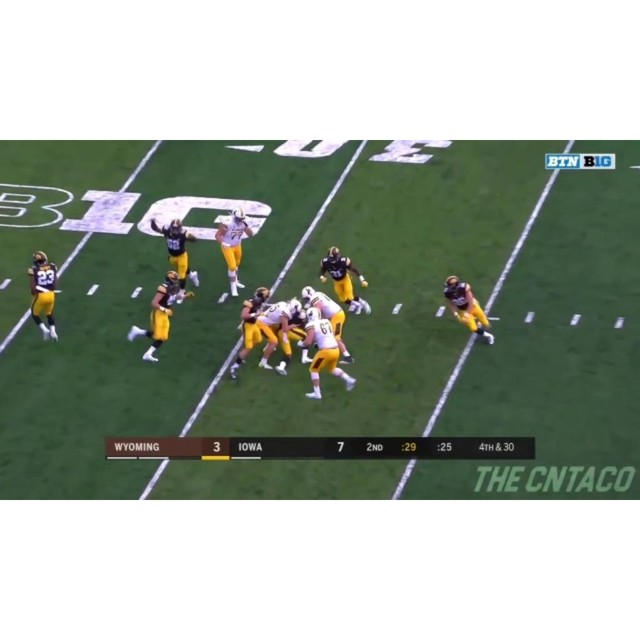american-football-player: (229, 296, 298, 379), (126, 270, 188, 362), (300, 308, 357, 399), (300, 286, 355, 360), (213, 208, 256, 300), (442, 275, 496, 345), (319, 246, 371, 315), (26, 252, 62, 343), (162, 219, 200, 296)
